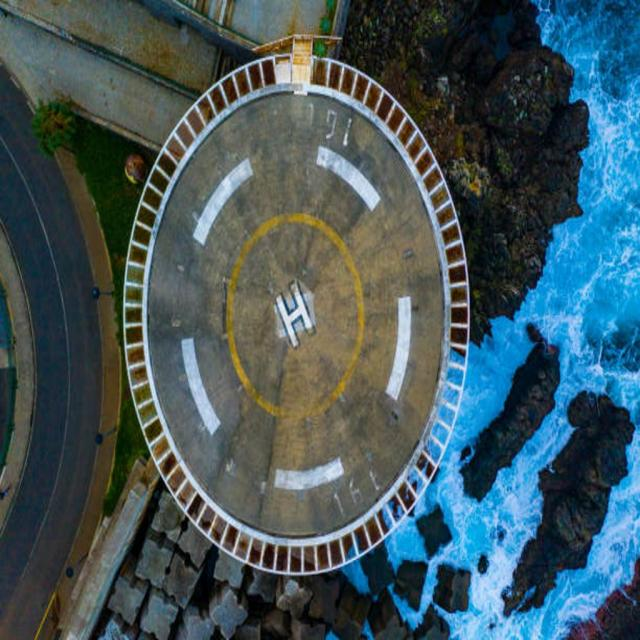helipad: (223, 212, 366, 420)
